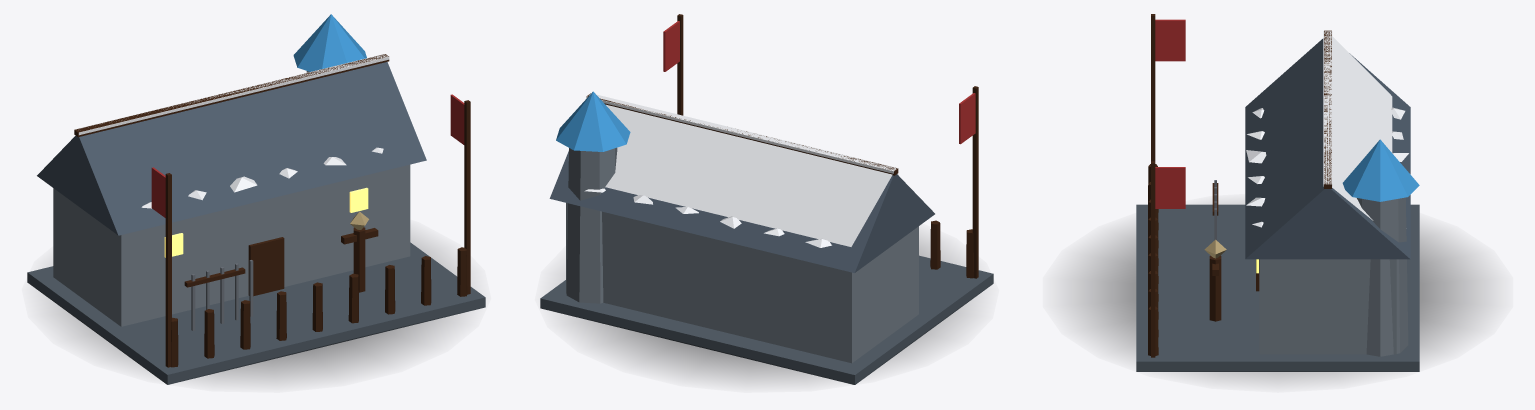
The model's file is barracks_t2.glb.
3 views of the same model, side by side, from view 1: azimuth 30°, elevation 25°; view 2: azimuth 150°, elevation 25°; view 3: azimuth 270°, elevation 25° (orthographic). The views are drawn at different scales.
Parts seen in each view (by area): view 1: barracks_t2; view 2: barracks_t2; view 3: barracks_t2.
Part boxes in pixels (<box>): barracks_t2: <box>27,14,485,384</box>; barracks_t2: <box>540,14,993,384</box>; barracks_t2: <box>1072,14,1483,379</box>.
Bounding box in the file's own units: 8.69 × 4.22 × 8.6.
